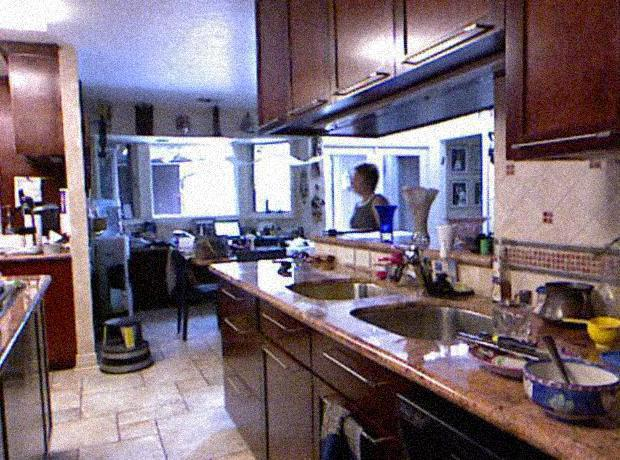Lavaplatos: (349, 248, 506, 356), (278, 264, 400, 314)
